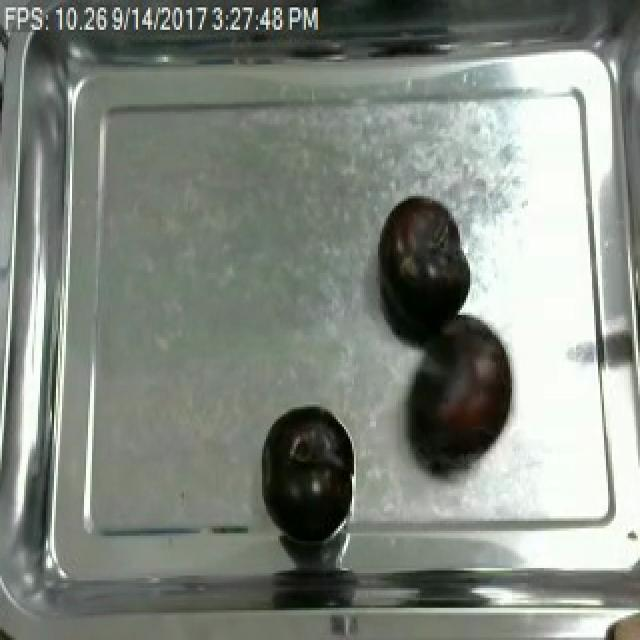Fruit: (400, 310, 520, 464), (374, 188, 474, 345), (258, 399, 358, 546), (596, 605, 640, 640)
